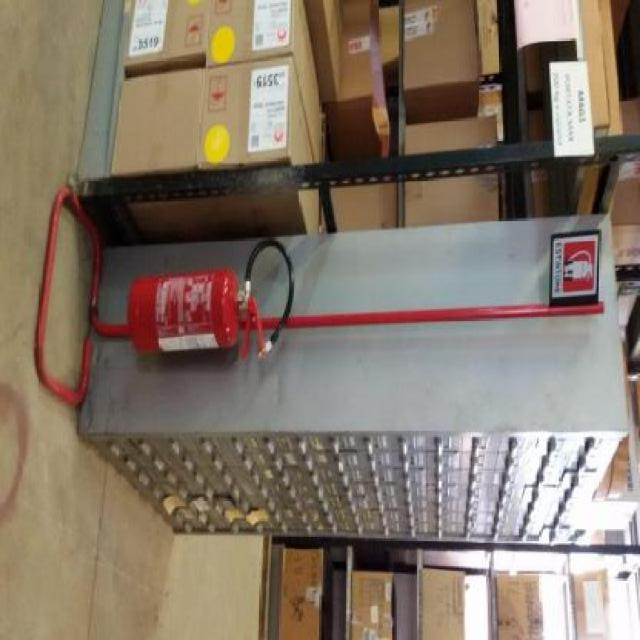fire extinguisher: (129, 240, 295, 362)
